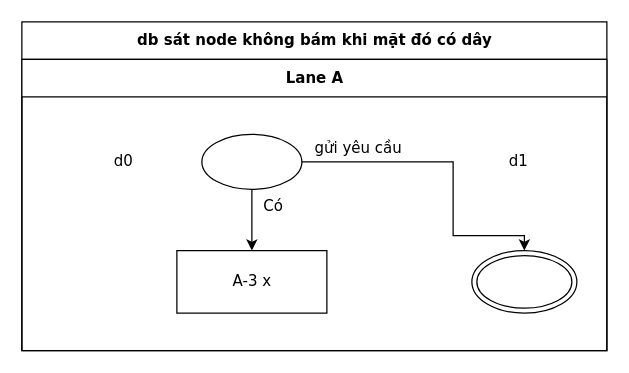
The diagram is 629 pixels wide and 373 high, and some of its shapes have lost their labels. Here are the shapes that lost their labels. From the top down, the box of each, then its label:
(201, 133, 302, 189): A-1 x
(471, 249, 577, 313): A-2 x
